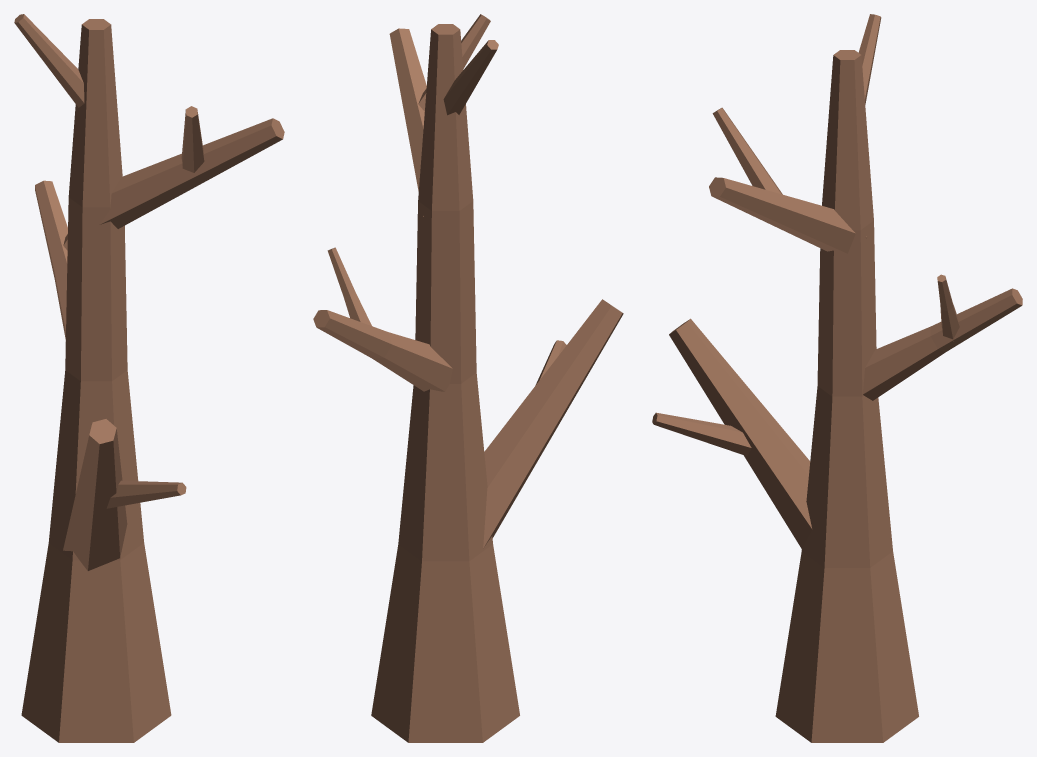
The picture shows the model from 3 angles, left to right: view 1: azimuth 30°, elevation 25°; view 2: azimuth 150°, elevation 25°; view 3: azimuth 270°, elevation 25°; orthographic projection. The views are drawn at different scales.
Parts seen in each view (by area): view 1: Cylinder.007; view 2: Cylinder.007; view 3: Cylinder.007.
Boxes of the visible parts, box(x1,y1,x2,y2) form: Cylinder.007: box(14, 14, 284, 742); Cylinder.007: box(313, 14, 623, 742); Cylinder.007: box(652, 14, 1022, 742).
Size of the model in its own units: 1.54 by 4.83 by 2.4.
